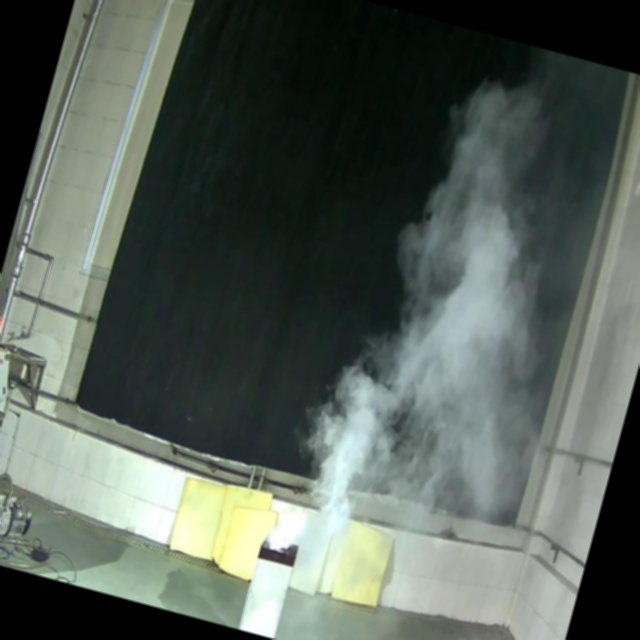smoke: (320, 94, 602, 534)
